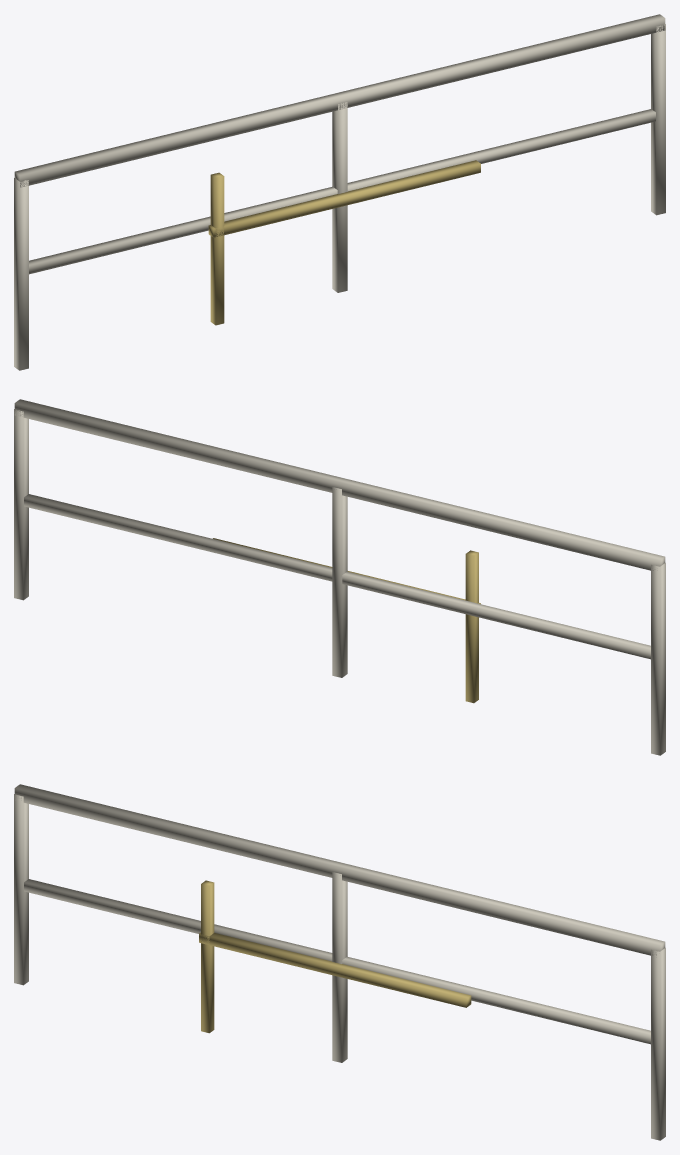
File: civic_gate_l300_h85.glb
The picture shows the model from 3 angles, top to bottom: view 1: azimuth 30°, elevation 25°; view 2: azimuth 150°, elevation 25°; view 3: azimuth 330°, elevation 25°; orthographic projection.
Visible parts, largest first — view 1: world; view 2: world; view 3: world.
Part boxes in pixels (<box>): world: <box>14,14,665,370</box>; world: <box>14,399,665,755</box>; world: <box>14,784,665,1140</box>.
Bounding box in the file's own units: 3.05 × 0.8775 × 0.0825.
